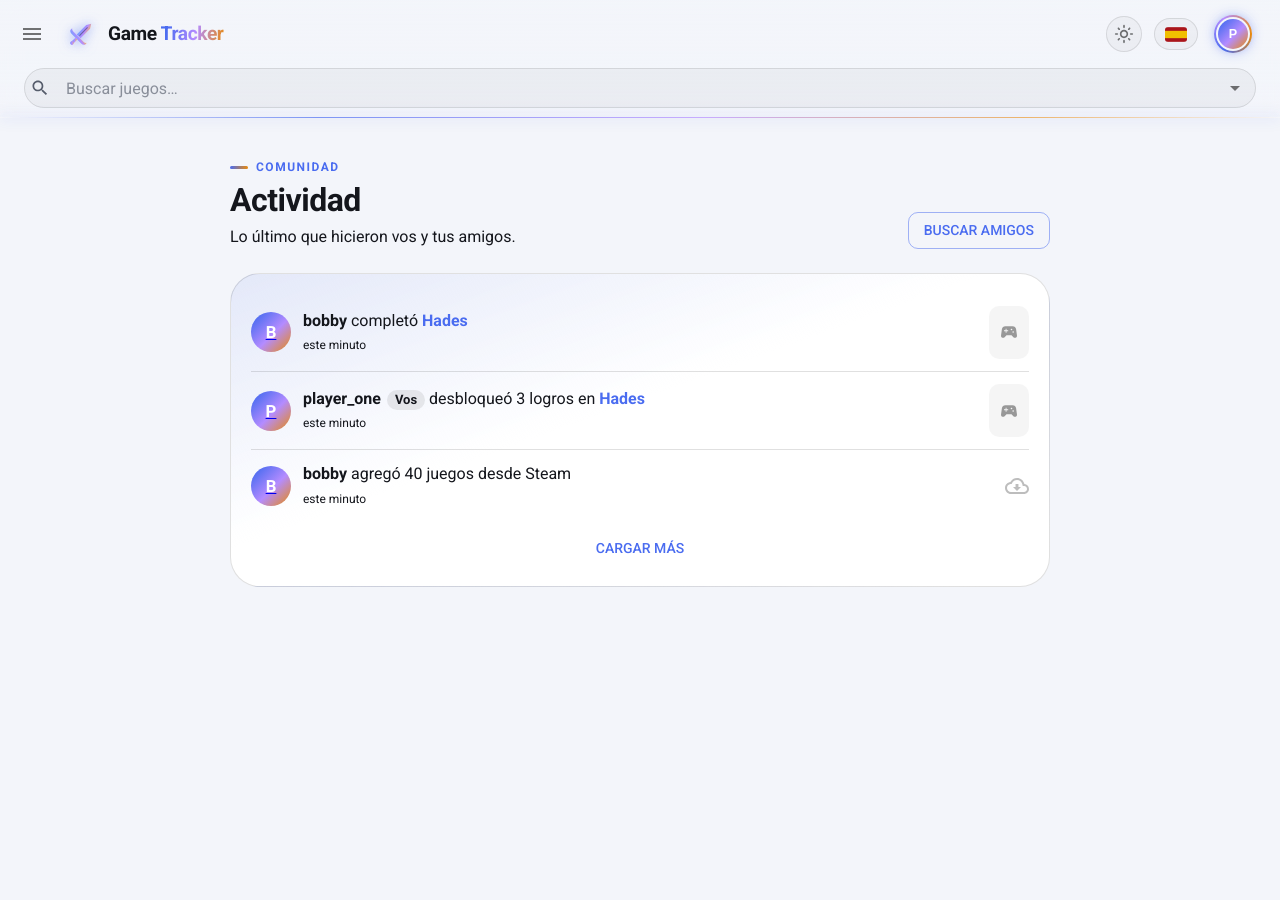
Test: social › activity › shows what the user and their friends did, with links to the friend's game
expect the list item "b bobby completó Hades este minuto" is shown: met, box [251, 294, 1029, 371]
expect the list item "b bobby agregó 40 juegos desde Steam este minuto" is shown: met, box [251, 449, 1029, 522]
Click the button "Cargar más".
click(640, 548)  # box [588, 530, 692, 566]
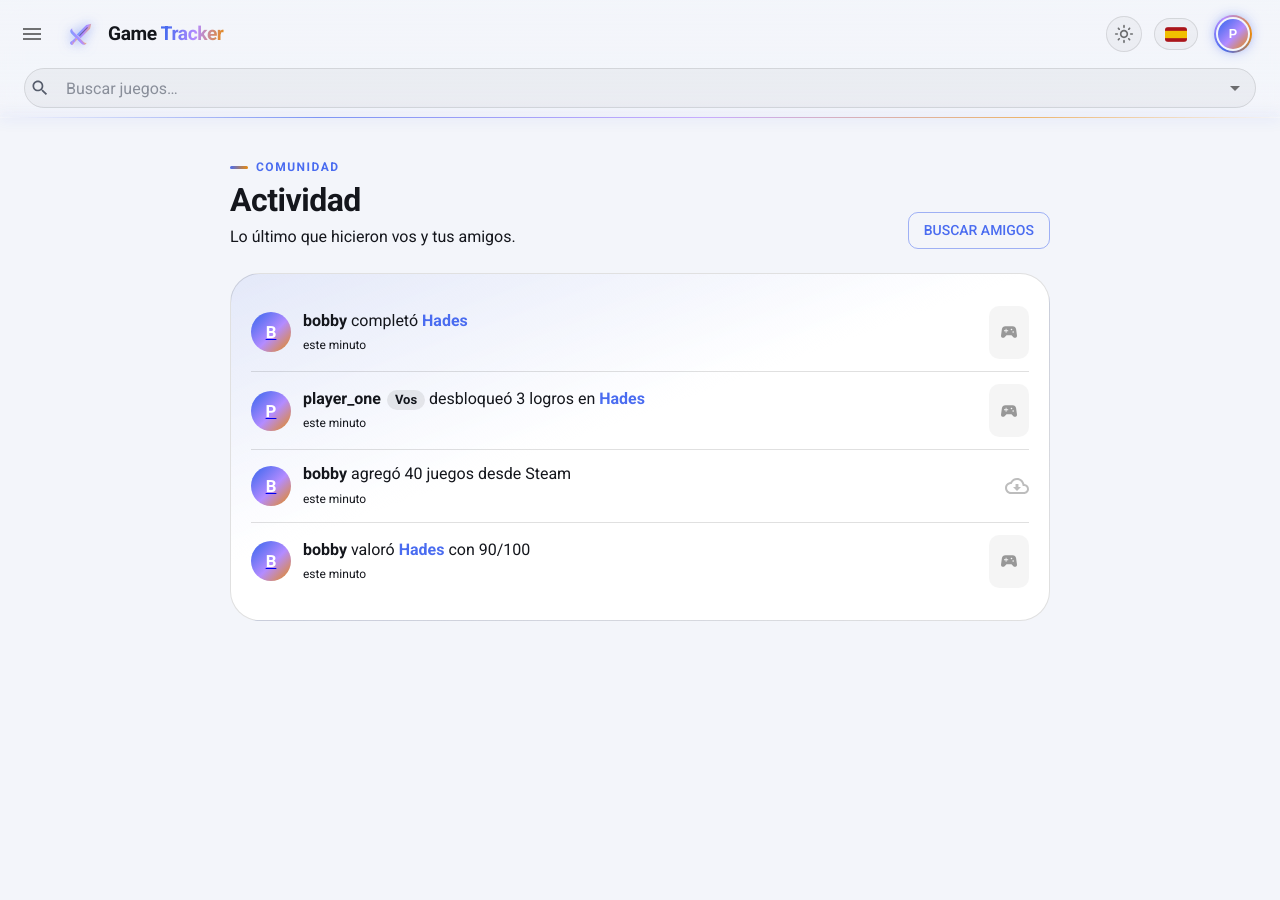
expect the text "bobby valoró Hades con 90/100" is shown: met, box [303, 540, 530, 559]
